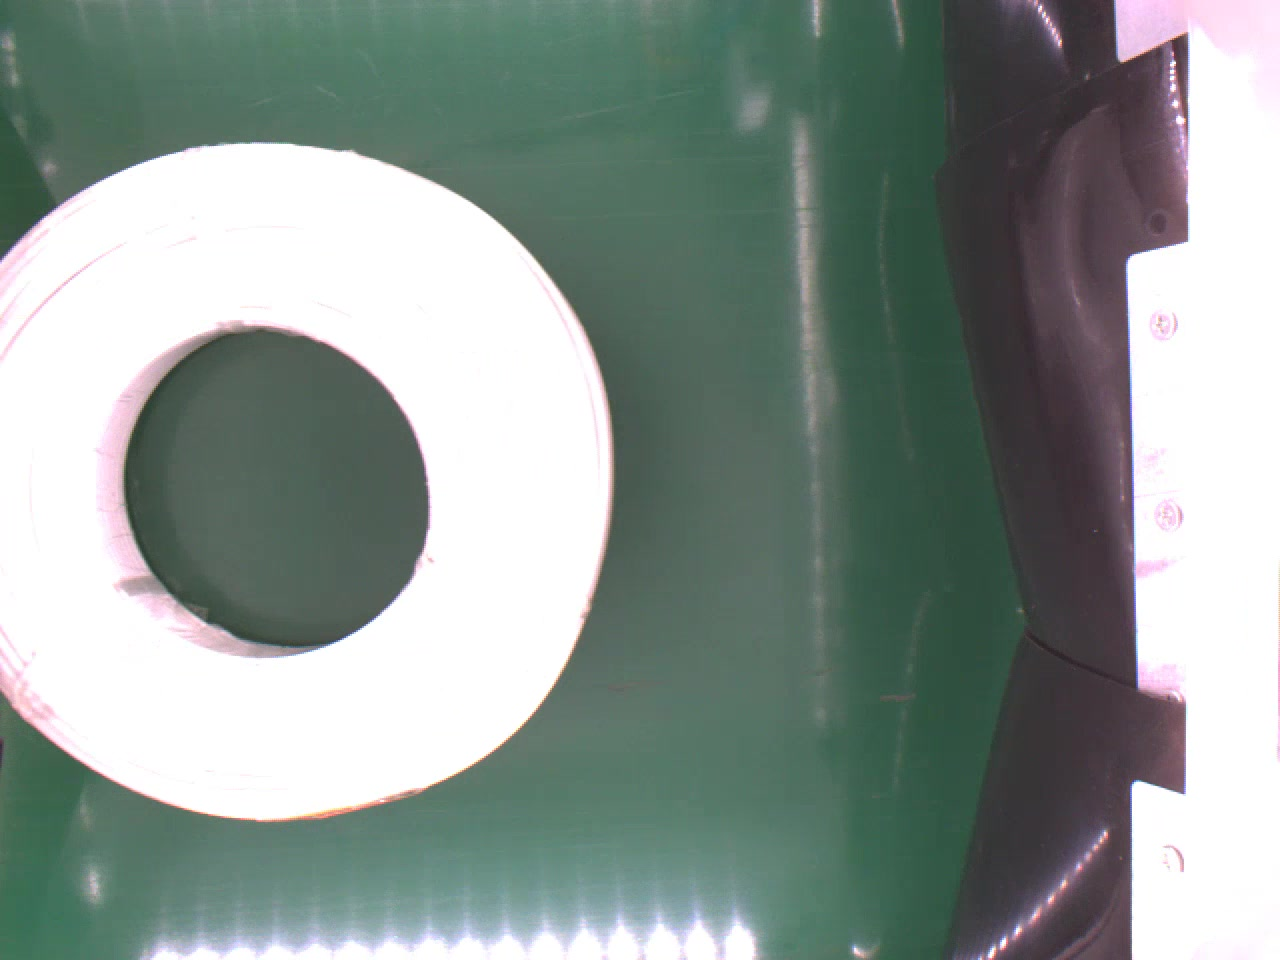white: (0, 134, 615, 824)
